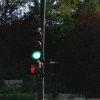Traffic light: (23, 18, 61, 79)
